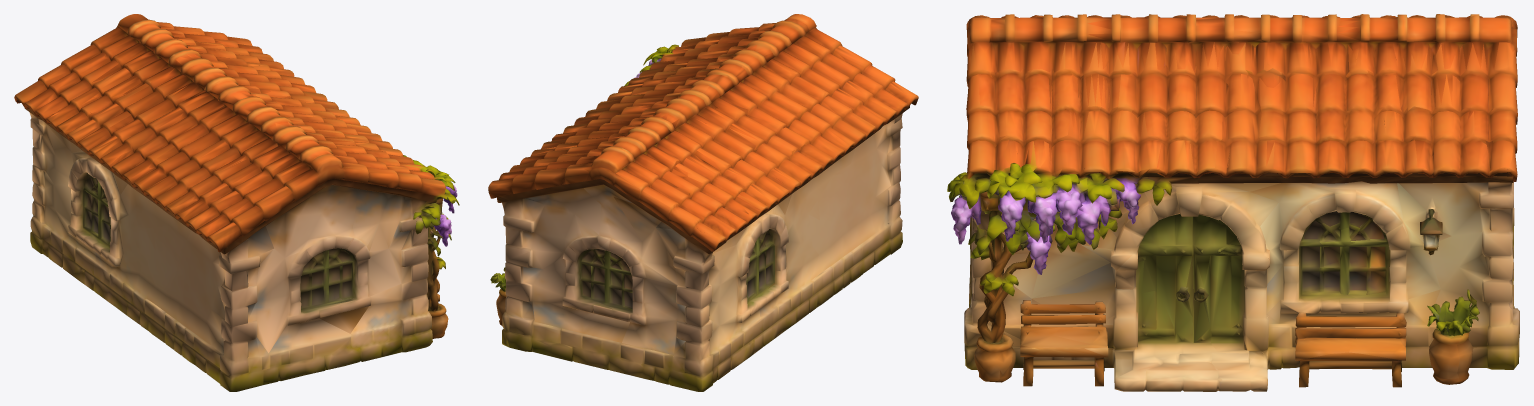
The model's file is Piece17.fbx.
The picture shows the model from 3 angles, left to right: view 1: azimuth 30°, elevation 25°; view 2: azimuth 150°, elevation 25°; view 3: azimuth 270°, elevation 25°; orthographic projection. The views are drawn at different scales.
Parts seen in each view (by area): view 1: Piece17; view 2: Piece17; view 3: Piece17.
Boxes of the visible parts, x1,y1,x2,y2 form: Piece17: [14, 14, 459, 391]; Piece17: [488, 14, 918, 391]; Piece17: [947, 14, 1519, 391].
Size of the model in its own units: 69.78 by 54.95 by 99.99.
Materials: 1 (1 with a texture image).
